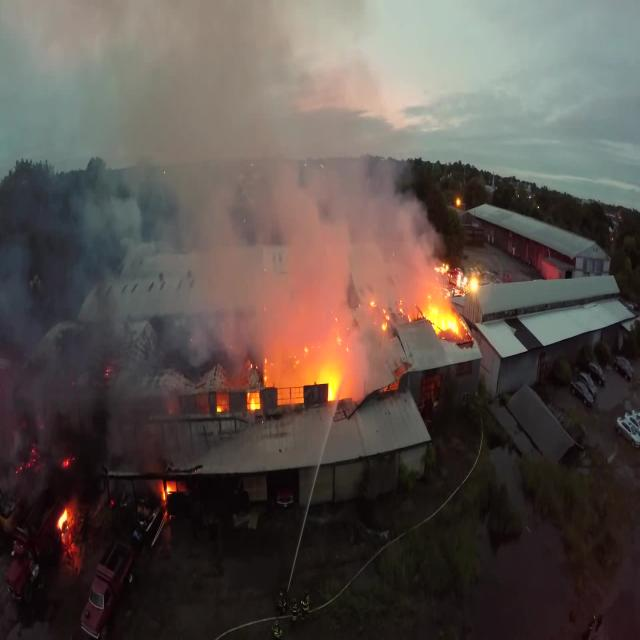Fire: (246, 280, 476, 403)
Smoke: (0, 0, 468, 439)
